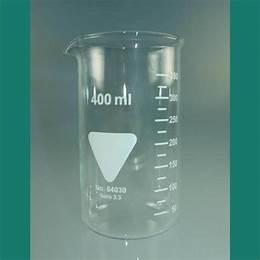Beaker: (60, 25, 184, 243)
